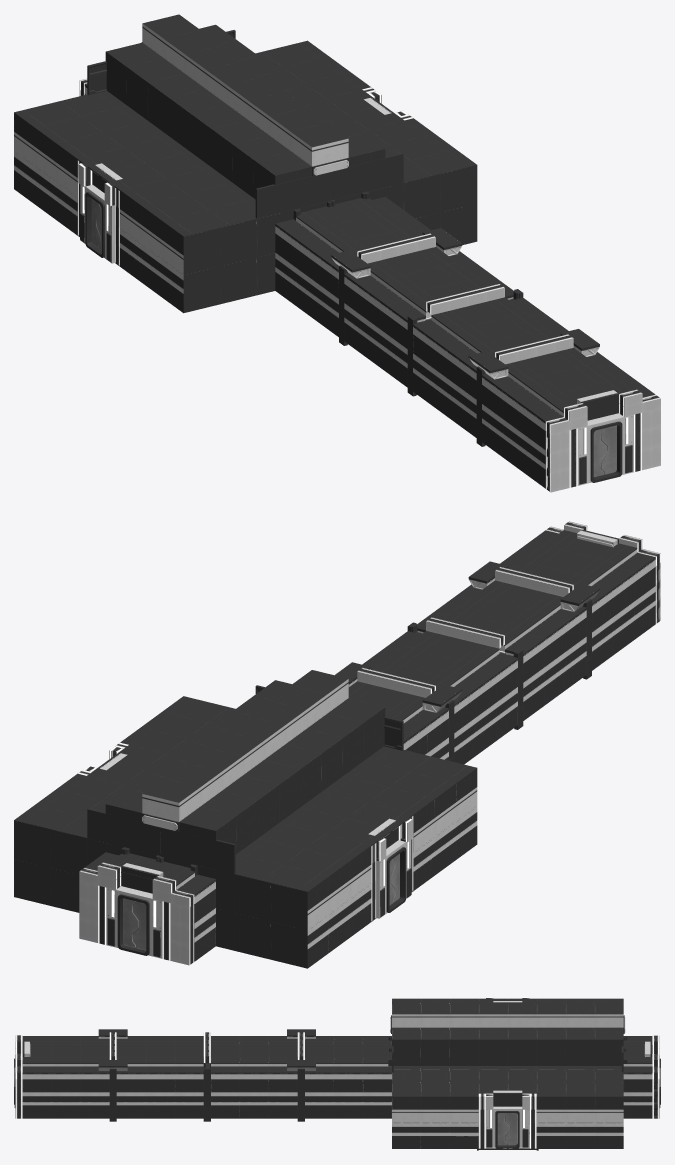
Rendered from arcs-demo-slim.gltf.
3 views of the same model, one above another, from view 1: azimuth 30°, elevation 25°; view 2: azimuth 150°, elevation 25°; view 3: azimuth 270°, elevation 25° (orthographic). The views are drawn at different scales.
Parts seen in each view (by area): view 1: Door_Panel, Door_Panel.001, Middle_Panel.146, Middle_Panel.145, Middle_Panel.136, Middle_Panel.143, Middle_Panel.144, Middle_Panel.138, Middle_Panel.135, Middle_Panel.099, Middle_Panel.100, Middle_Panel.097 (+60 smaller); view 2: Door_Panel.003, Door_Panel.001, Middle_Panel.148, Middle_Panel.155, Middle_Panel.156, Middle_Panel.157, Middle_Panel.158, Middle_Panel.147, Middle_Panel.150, Middle_Panel.095, Middle_Panel.149, Middle_Panel.096 (+61 smaller); view 3: Door_Panel.002, Middle_Panel.111, Middle_Panel.112, Middle_Panel.113, Middle_Panel.115, Middle_Panel.101, Middle_Panel.109, Middle_Panel.114, Middle_Panel.110, Buttom_Panel.039, Buttom_Panel.009, Buttom_Panel.011 (+134 smaller).
Boxes of the visible parts, left/top/right/bottom form: Door_Panel: left=578, top=413, right=633, bottom=485; Door_Panel.001: left=80, top=184, right=114, bottom=263; Middle_Panel.146: left=183, top=227, right=220, bottom=274; Middle_Panel.145: left=183, top=266, right=220, bottom=312; Middle_Panel.136: left=440, top=165, right=477, bottom=211; Middle_Panel.143: left=220, top=257, right=256, bottom=304; Middle_Panel.144: left=220, top=218, right=256, bottom=265; Middle_Panel.138: left=403, top=174, right=440, bottom=218; Middle_Panel.135: left=440, top=203, right=477, bottom=244; Middle_Panel.099: left=255, top=181, right=293, bottom=218; Middle_Panel.100: left=367, top=153, right=403, bottom=191; Middle_Panel.097: left=293, top=172, right=330, bottom=209; Door_Panel.003: left=106, top=886, right=161, bottom=958; Door_Panel.001: left=376, top=840, right=411, bottom=918; Middle_Panel.148: left=14, top=820, right=50, bottom=867; Middle_Panel.155: left=234, top=912, right=270, bottom=959; Middle_Panel.156: left=234, top=874, right=270, bottom=921; Middle_Panel.157: left=271, top=921, right=307, bottom=968; Middle_Panel.158: left=271, top=883, right=307, bottom=930; Middle_Panel.147: left=14, top=858, right=50, bottom=905; Middle_Panel.150: left=50, top=829, right=87, bottom=874; Middle_Panel.095: left=197, top=836, right=235, bottom=873; Middle_Panel.149: left=50, top=867, right=79, bottom=912; Middle_Panel.096: left=87, top=808, right=123, bottom=846; Door_Panel.002: left=486, top=1106, right=529, bottom=1148; Middle_Panel.111: left=536, top=1039, right=565, bottom=1065; Middle_Panel.112: left=507, top=1039, right=536, bottom=1065; Middle_Panel.113: left=478, top=1039, right=507, bottom=1065; Middle_Panel.115: left=565, top=1039, right=594, bottom=1065; Middle_Panel.101: left=450, top=1039, right=478, bottom=1065; Middle_Panel.109: left=421, top=1039, right=449, bottom=1065; Middle_Panel.114: left=594, top=1039, right=623, bottom=1065; Middle_Panel.110: left=392, top=1039, right=420, bottom=1065; Buttom_Panel.039: left=493, top=1090, right=522, bottom=1106; Buttom_Panel.009: left=22, top=1105, right=51, bottom=1118; Buttom_Panel.011: left=174, top=1105, right=203, bottom=1118.
Bounding box in the file's own units: 16.25 × 8.23 × 44.68.
5 materials, 5 textured.
